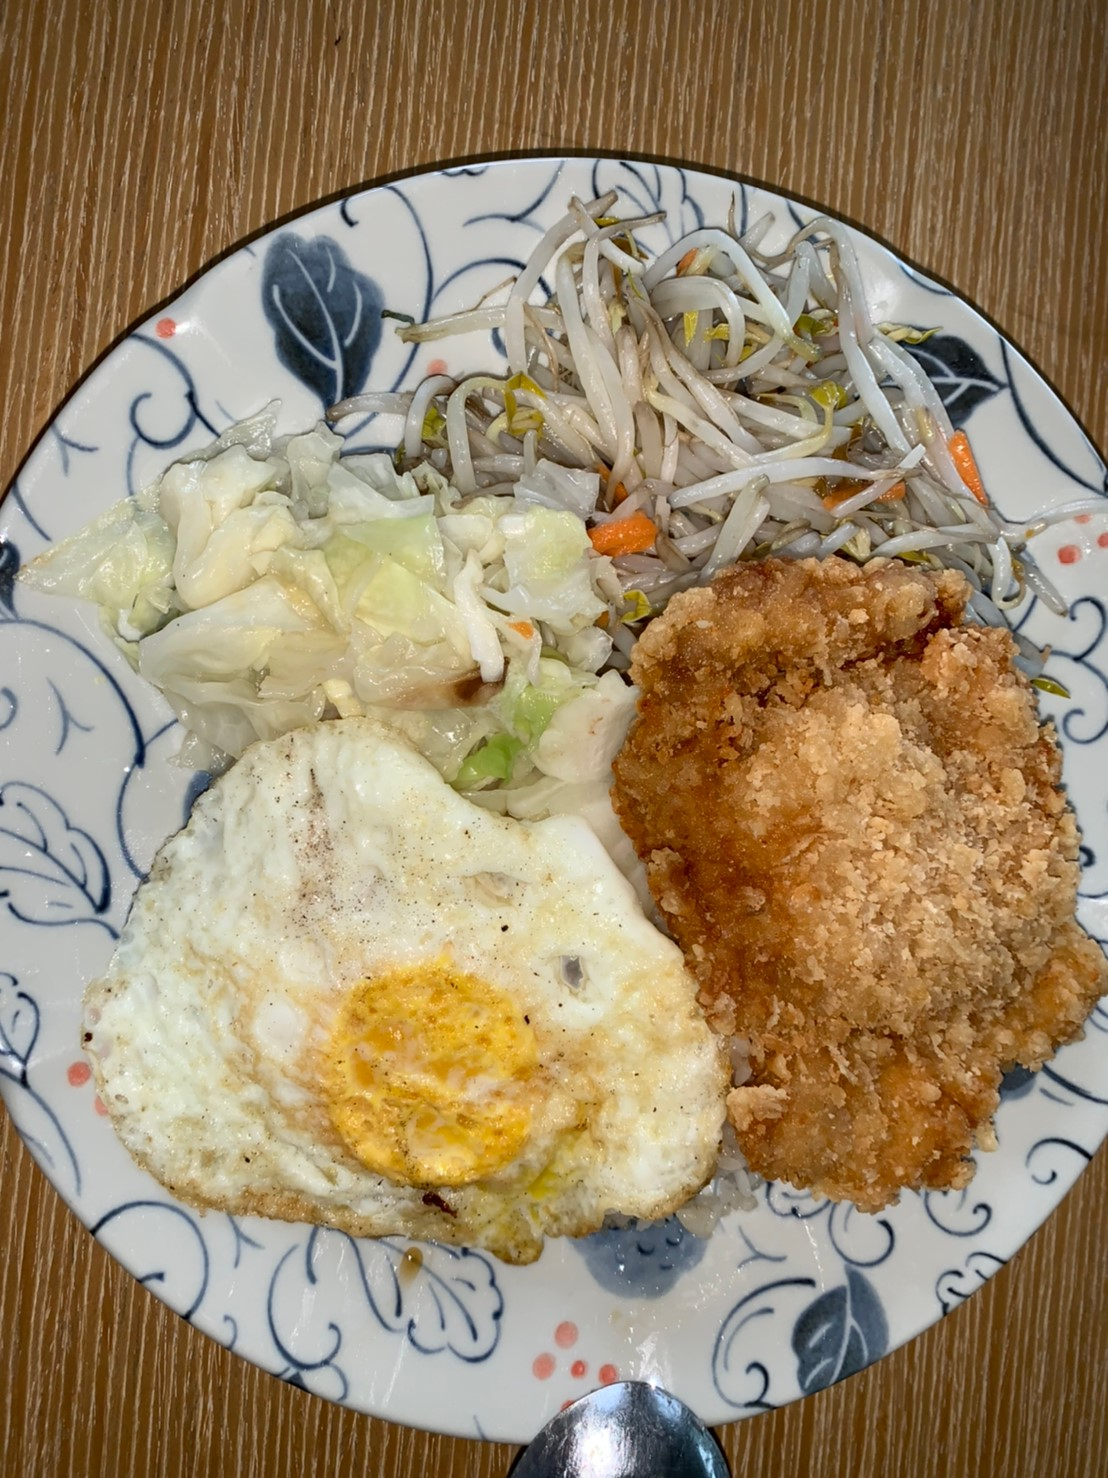chinese_cabbage: (70, 404, 630, 737)
fried_chicken: (624, 557, 1098, 1205)
fried_eggs: (74, 736, 725, 1252)
mung_bean_sprouts: (491, 206, 972, 548)
